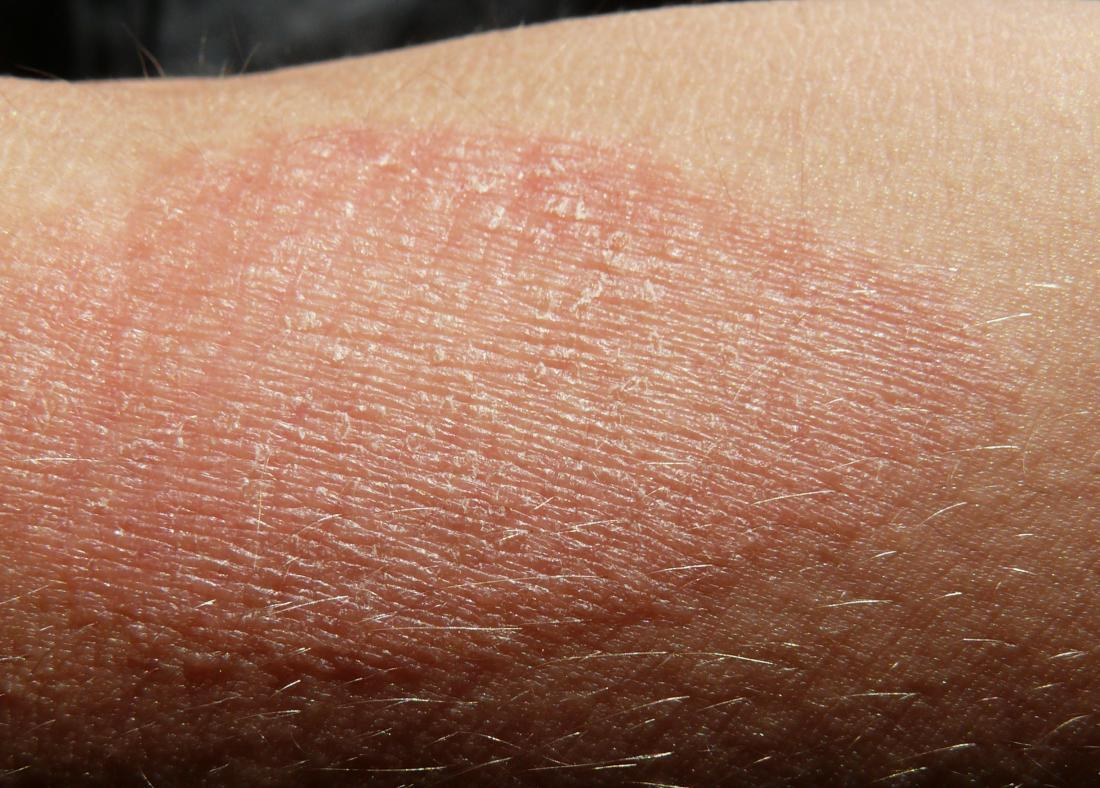Eczema: (65, 143, 981, 715)
